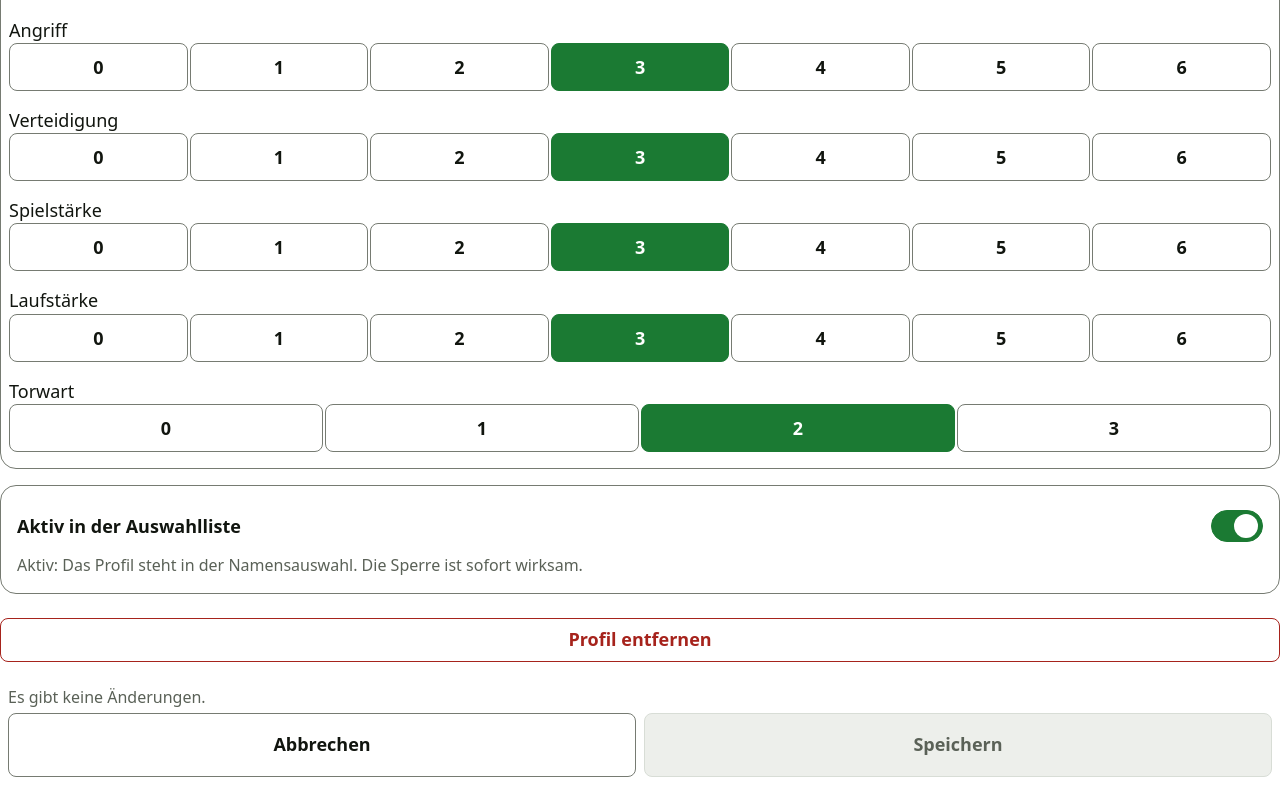
Test: Status: Sperren und Entfernen › ein anderer Fehler beim Entfernen steht im Dialog, der offen bleibt
(page scrolled)
Step 1. Click the button with test id "admin-profil-entfernen" → coordinates (640, 640), box left=0, top=618, right=1279, bottom=662
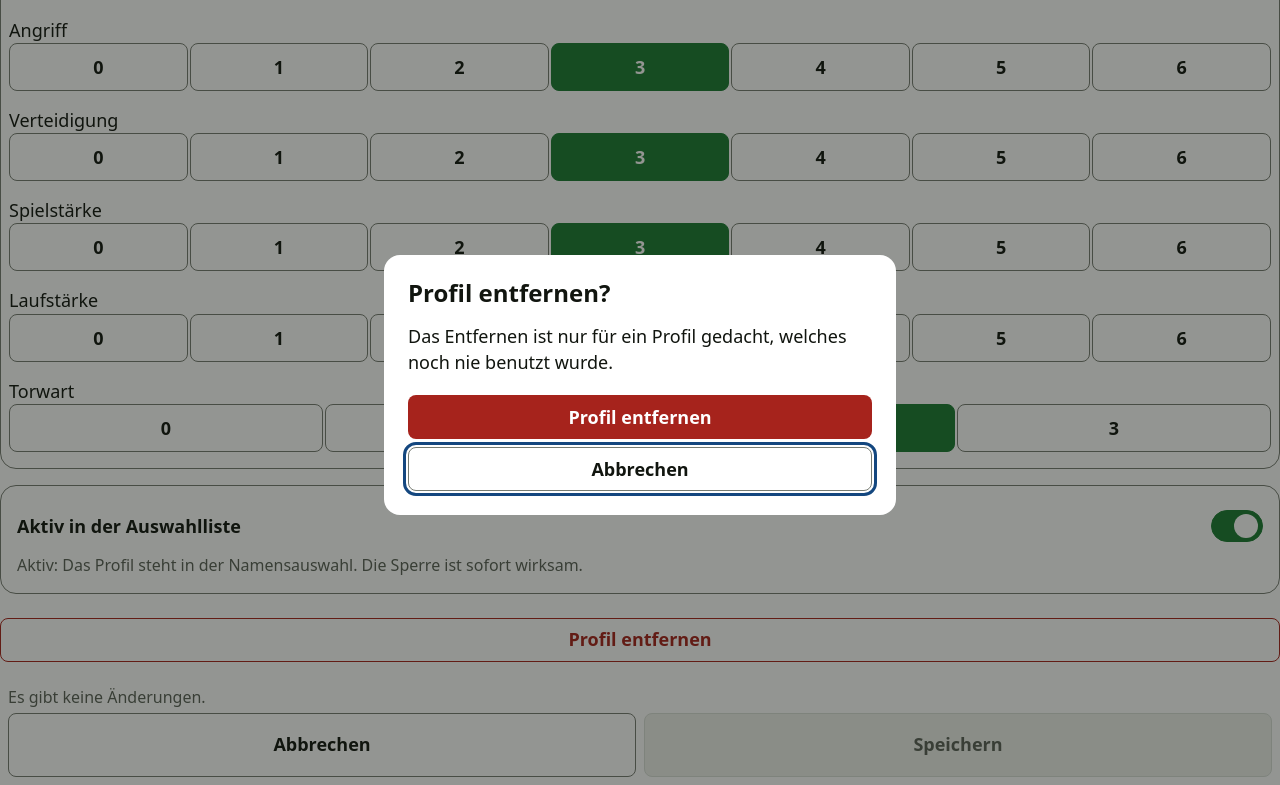
Step 2. Click the button with test id "admin-profil-entfernen-dialog-bestaetigen" → coordinates (640, 418), box left=408, top=396, right=872, bottom=440
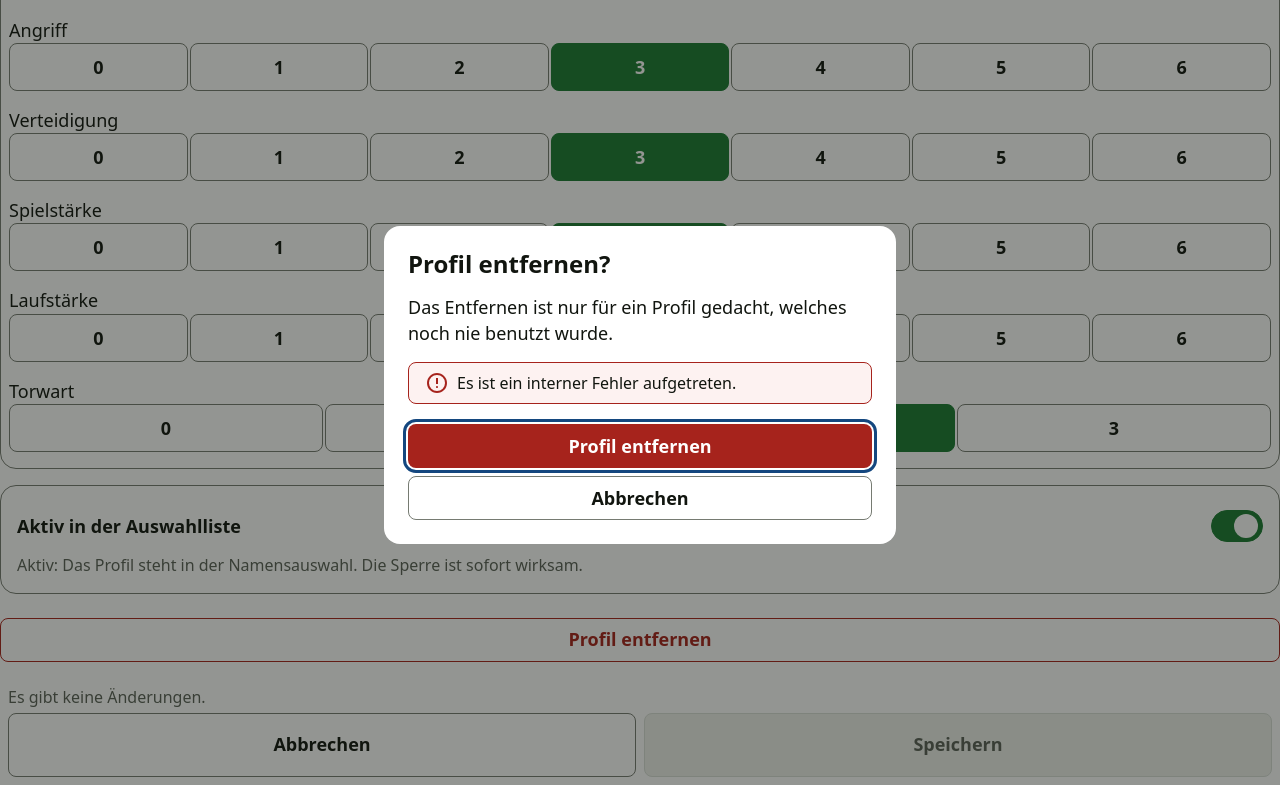
Check: the message with test id "admin-profil-entfernen-dialog-fehler" shows "interner Fehler", box left=457, top=372, right=736, bottom=394
